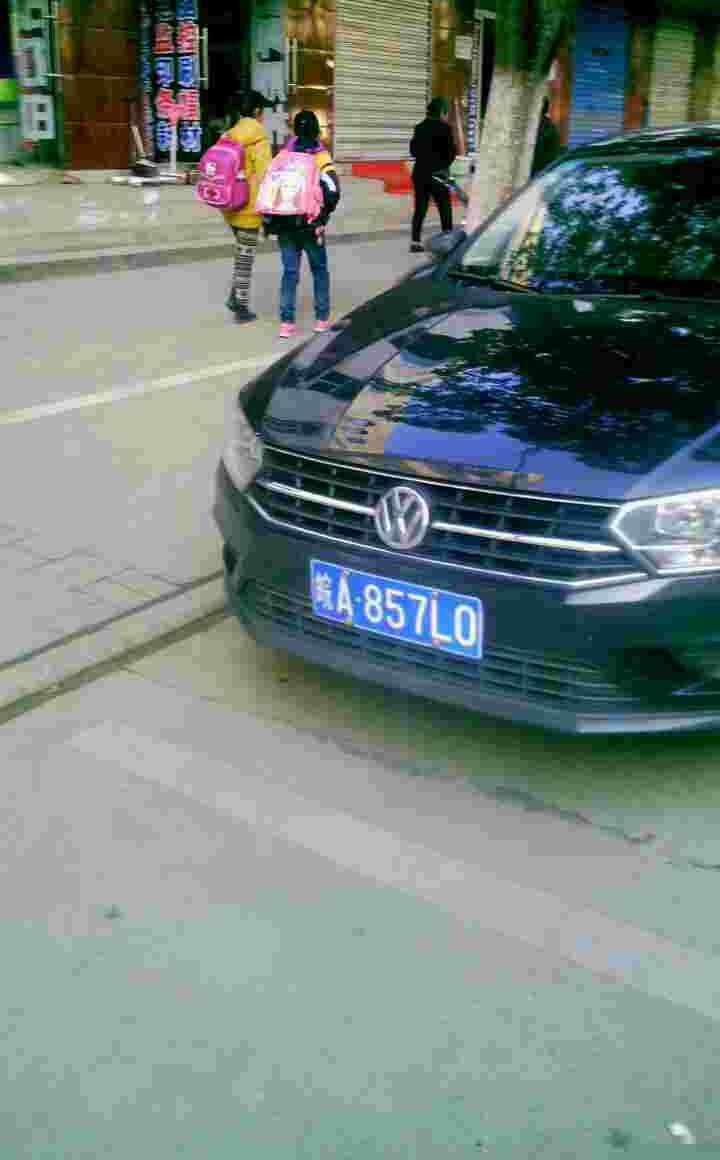plate: (307, 553, 483, 663)
